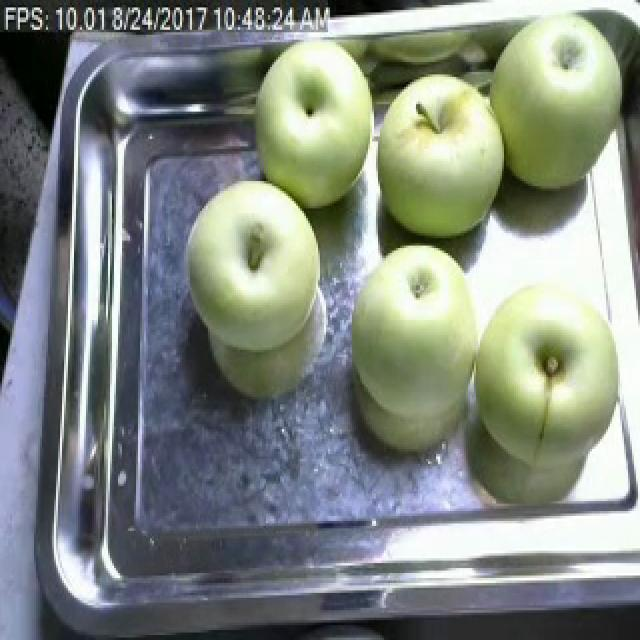50-_ripeness: (477, 276, 635, 495), (182, 172, 332, 358), (345, 242, 480, 441), (502, 0, 636, 196), (384, 62, 506, 256), (256, 38, 378, 202)
